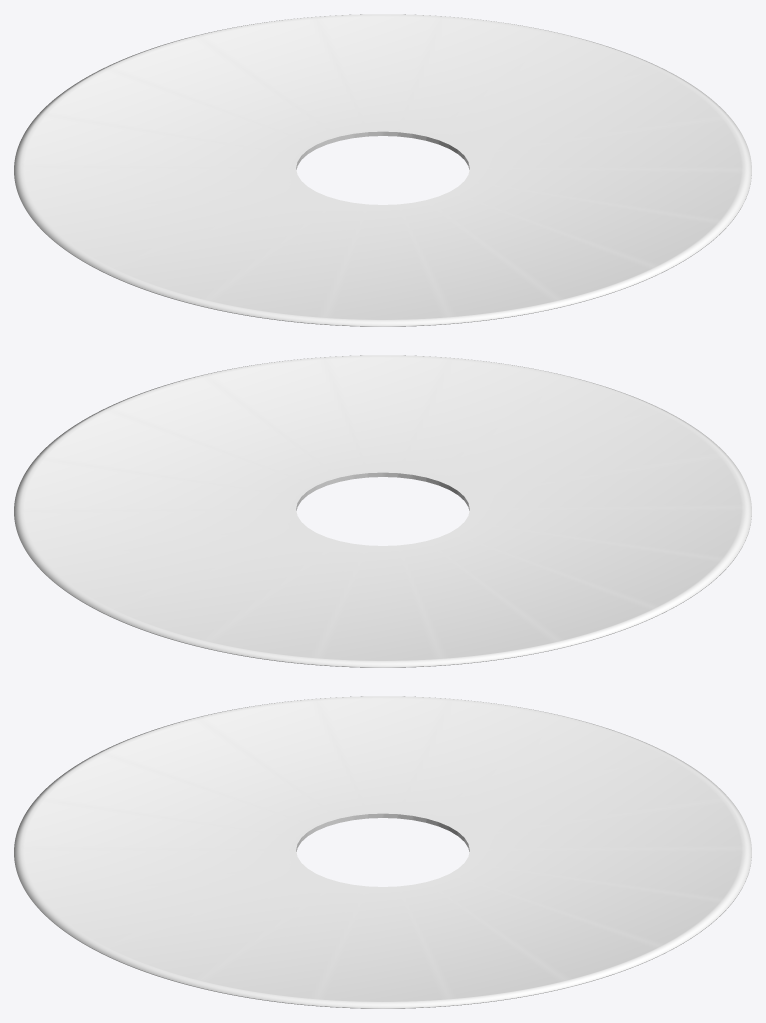
File: vinyl_7_large_heavy.dae
The picture shows the model from 3 angles, top to bottom: view 1: azimuth 30°, elevation 25°; view 2: azimuth 150°, elevation 25°; view 3: azimuth 270°, elevation 25°; orthographic projection.
Parts seen in each view (by area): view 1: vinyl; view 2: vinyl; view 3: vinyl.
Boxes of the visible parts, x1,y1,x2,y2 form: vinyl: [14, 14, 751, 326]; vinyl: [14, 355, 751, 667]; vinyl: [14, 696, 751, 1008].
Bounding box in the file's own units: 17 × 0.1701 × 17.
Materials: 1 (1 with a texture image).
